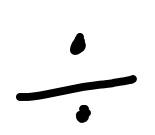div: (11, 32, 135, 125)
